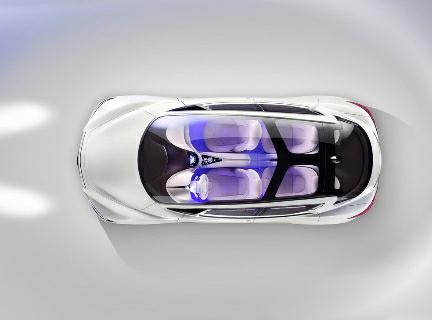英菲尼迪-Etherea: (73, 87, 393, 230)
